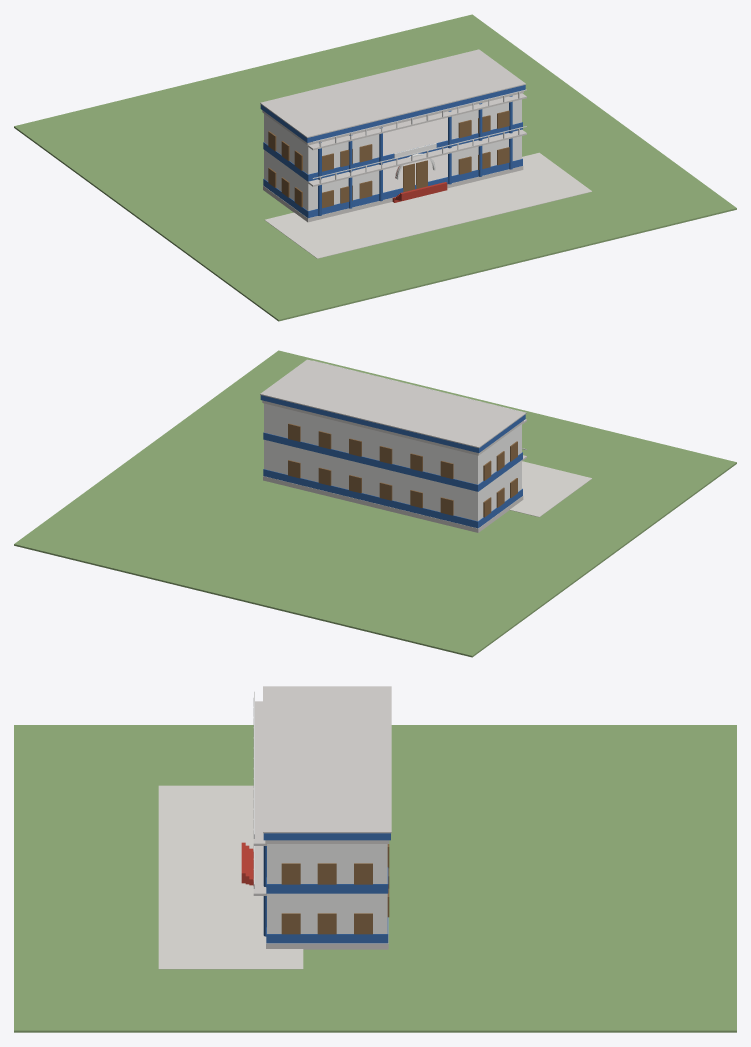
Rendered from Chappel.glb.
3 renders of one model, top to bottom at view 1: azimuth 30°, elevation 25°; view 2: azimuth 150°, elevation 25°; view 3: azimuth 270°, elevation 25°, orthographic. The views are drawn at different scales.
Visible parts, largest first — view 1: Ground, Pavement, Par_Cap, Plinth, Slab_FF, Balcony_GF, Balcony_FF, GF_BlueBandF, Par_Front, FF_BlueBandF, GF_Left, GF_FrontL (+5 smaller); view 2: Ground, Par_Cap, GF_Back, FF_Back, Pavement, FF_BlueBandB, GF_BlueBandB, Plinth, Par_Back, GF_Left, FF_Left, Roof_Slab; view 3: Ground, Par_Cap, Pavement, GF_Right, FF_Right, GF_BlueBandR, FF_BlueBandR, Balcony_FF, Par_Right, Plinth.
Part boxes in pixels (x1,y1,x2,y2): Ground: [14, 14, 736, 321]; Pavement: [264, 152, 591, 258]; Par_Cap: [260, 49, 525, 137]; Plinth: [263, 150, 523, 222]; Slab_FF: [383, 117, 447, 155]; Balcony_GF: [308, 129, 526, 186]; Balcony_FF: [308, 93, 526, 150]; GF_BlueBandF: [308, 159, 522, 218]; Par_Front: [306, 85, 525, 142]; FF_BlueBandF: [308, 122, 522, 181]; GF_Left: [265, 151, 310, 210]; GF_FrontL: [308, 167, 379, 210]; Ground: [14, 350, 736, 657]; Par_Cap: [260, 359, 525, 447]; GF_Back: [264, 439, 479, 521]; FF_Back: [264, 403, 479, 484]; Pavement: [510, 461, 591, 517]; FF_BlueBandB: [263, 432, 478, 491]; GF_BlueBandB: [263, 469, 478, 528]; Plinth: [263, 476, 523, 532]; Par_Back: [260, 395, 480, 452]; GF_Left: [477, 461, 520, 519]; FF_Left: [478, 425, 520, 482]; Roof_Slab: [262, 400, 523, 455]; Ground: [14, 725, 736, 1032]; Par_Cap: [263, 686, 391, 833]; Pavement: [158, 785, 303, 969]; GF_Right: [267, 893, 387, 933]; FF_Right: [267, 844, 387, 883]; GF_BlueBandR: [266, 934, 387, 943]; FF_BlueBandR: [266, 884, 387, 893]; Balcony_FF: [253, 701, 266, 845]; Par_Right: [267, 833, 387, 840]; Plinth: [266, 917, 388, 949].
Size of the model in its own units: 60 by 11.06 by 60.
